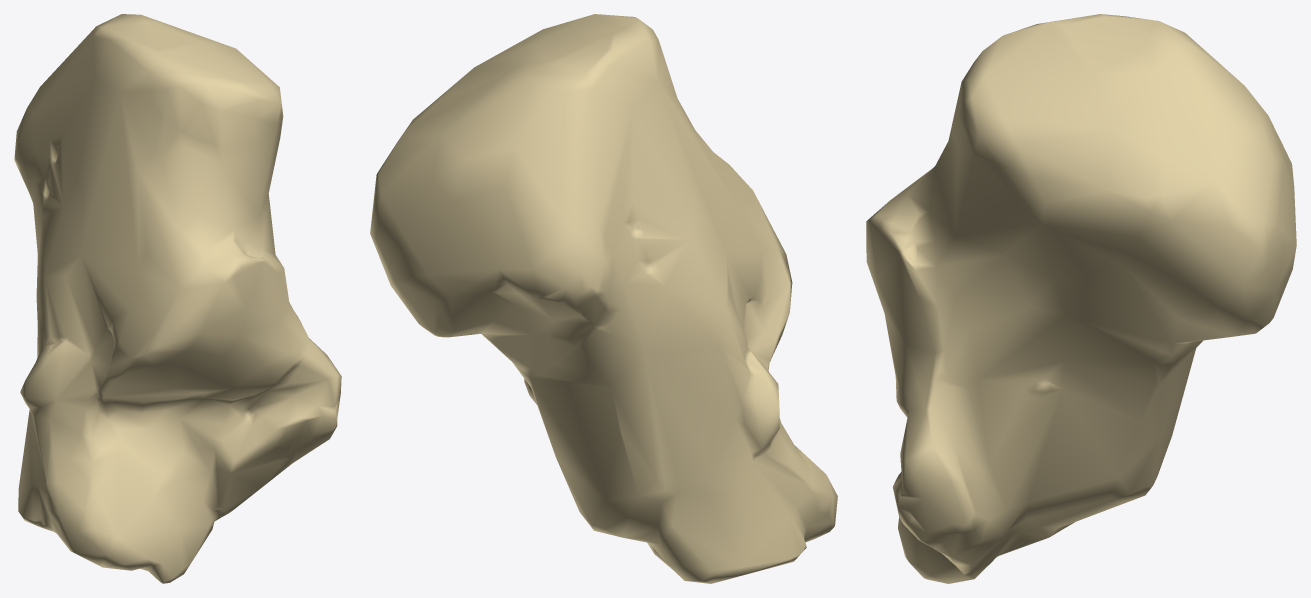
The picture shows the model from 3 angles, left to right: view 1: azimuth 30°, elevation 25°; view 2: azimuth 150°, elevation 25°; view 3: azimuth 270°, elevation 25°; orthographic projection. The views are drawn at different scales.
Parts seen in each view (by area): view 1: 右侧跟骨; view 2: 右侧跟骨; view 3: 右侧跟骨.
Part boxes in pixels (box(x1,y1,x2,y2)): 右侧跟骨: box(14, 14, 341, 583); 右侧跟骨: box(370, 14, 837, 583); 右侧跟骨: box(866, 14, 1296, 583).
Bounding box in the file's own units: 0.07 × 0.1115 × 0.0753.
